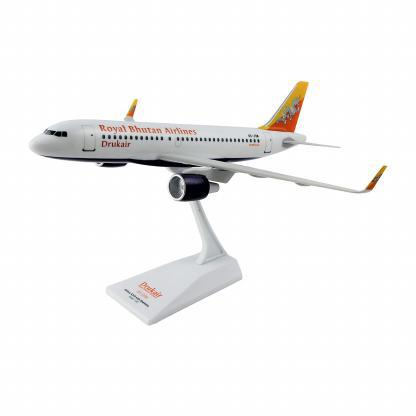CIV_Plane: (22, 76, 389, 208)
